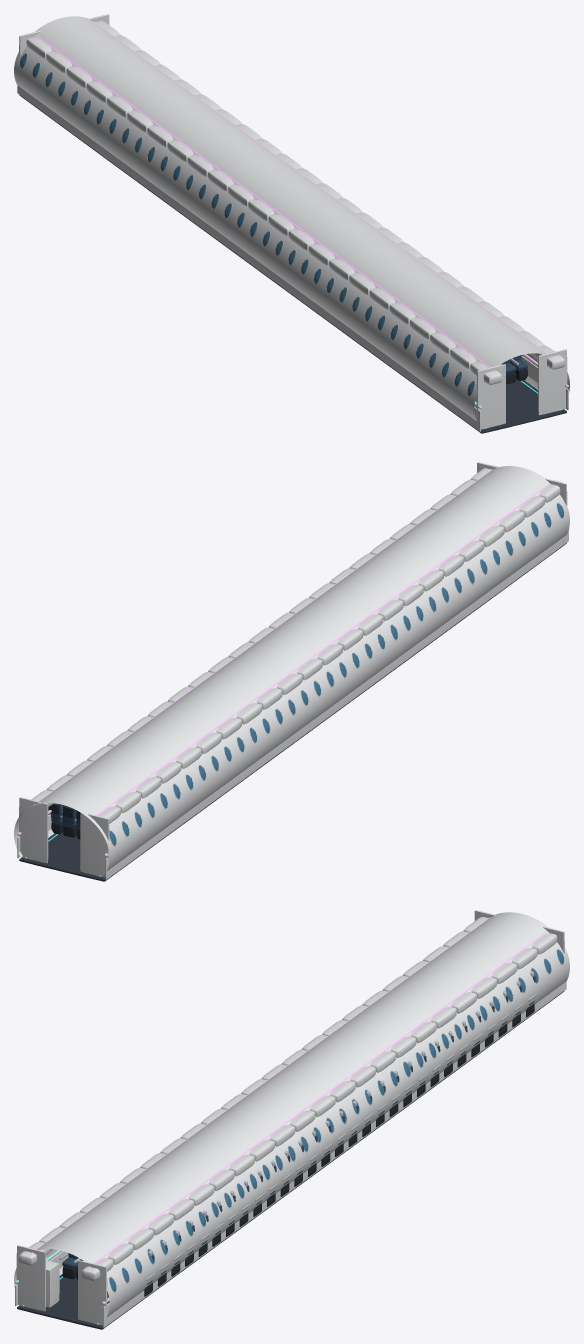
The model's file is airbus-a220-300.glb.
3 renders of one model, top to bottom at view 1: azimuth 30°, elevation 25°; view 2: azimuth 150°, elevation 25°; view 3: azimuth 330°, elevation 25°, orthographic.
Visible parts, largest first — view 1: Lower sidewall -1, Carpet floor, Bulkhead right, Bulkhead left, Cabin wall bay -1 1, Cabin wall bay -1 3, Cabin wall bay -1 25, Cabin wall bay -1 31, Cabin wall bay -1 11, Cabin wall bay -1 12, Cabin wall bay -1 30, Cabin wall bay -1 6 (+30 smaller); view 2: Lower sidewall -1, Carpet floor, Bulkhead right, Bulkhead left, Cabin wall bay -1 33, Cabin wall bay -1 4, Cabin wall bay -1 28, Cabin wall bay -1 1, Cabin wall bay -1 9, Cabin wall bay -1 22, Cabin wall bay -1 14, Cabin wall bay -1 17 (+30 smaller); view 3: Lower sidewall 1, Carpet floor, Bulkhead left, Bulkhead right, Cabin wall bay 1 1, Cabin wall bay 1 33, Cabin wall bay 1 34, Cabin wall bay 1 17, Cabin wall bay 1 31, Cabin wall bay 1 3, Cabin wall bay 1 15, Cabin wall bay 1 16 (+31 smaller).
Part boxes in pixels (x1=…): Lower sidewall -1: x1=17, y1=85, x2=480, y2=431; Carpet floor: x1=19, y1=95, x2=566, y2=433; Bulkhead right: x1=538, y1=349, x2=567, y2=415; Bulkhead left: x1=476, y1=364, x2=505, y2=430; Cabin wall bay -1 1: x1=26, y1=27, x2=86, y2=103; Cabin wall bay -1 3: x1=52, y1=46, x2=112, y2=121; Cabin wall bay -1 25: x1=333, y1=252, x2=393, y2=327; Cabin wall bay -1 31: x1=410, y1=308, x2=470, y2=383; Cabin wall bay -1 11: x1=154, y1=121, x2=214, y2=196; Cabin wall bay -1 12: x1=167, y1=130, x2=227, y2=205; Cabin wall bay -1 30: x1=397, y1=299, x2=457, y2=374; Cabin wall bay -1 6: x1=90, y1=74, x2=150, y2=149; Lower sidewall -1: x1=105, y1=530, x2=568, y2=879; Carpet floor: x1=19, y1=543, x2=566, y2=881; Bulkhead right: x1=19, y1=797, x2=48, y2=863; Bulkhead left: x1=80, y1=813, x2=109, y2=878; Cabin wall bay -1 33: x1=484, y1=486, x2=544, y2=561; Cabin wall bay -1 4: x1=113, y1=758, x2=173, y2=833; Cabin wall bay -1 28: x1=420, y1=533, x2=480, y2=608; Cabin wall bay -1 1: x1=75, y1=786, x2=134, y2=861; Cabin wall bay -1 9: x1=177, y1=711, x2=237, y2=786; Cabin wall bay -1 22: x1=343, y1=589, x2=403, y2=664; Cabin wall bay -1 14: x1=241, y1=664, x2=301, y2=739; Cabin wall bay -1 17: x1=279, y1=636, x2=339, y2=711; Lower sidewall 1: x1=103, y1=981, x2=566, y2=1327; Carpet floor: x1=17, y1=991, x2=564, y2=1329; Bulkhead left: x1=16, y1=1245, x2=45, y2=1311; Bulkhead right: x1=78, y1=1260, x2=107, y2=1326; Cabin wall bay 1 1: x1=497, y1=923, x2=557, y2=999; Cabin wall bay 1 33: x1=87, y1=1223, x2=147, y2=1298; Cabin wall bay 1 34: x1=75, y1=1232, x2=134, y2=1308; Cabin wall bay 1 17: x1=292, y1=1073, x2=352, y2=1146; Cabin wall bay 1 31: x1=113, y1=1204, x2=173, y2=1278; Cabin wall bay 1 3: x1=471, y1=942, x2=531, y2=1015; Cabin wall bay 1 15: x1=318, y1=1054, x2=377, y2=1128; Cabin wall bay 1 16: x1=305, y1=1063, x2=365, y2=1137.
Size of the model in its own units: 3.29 by 2.21 by 27.68.
